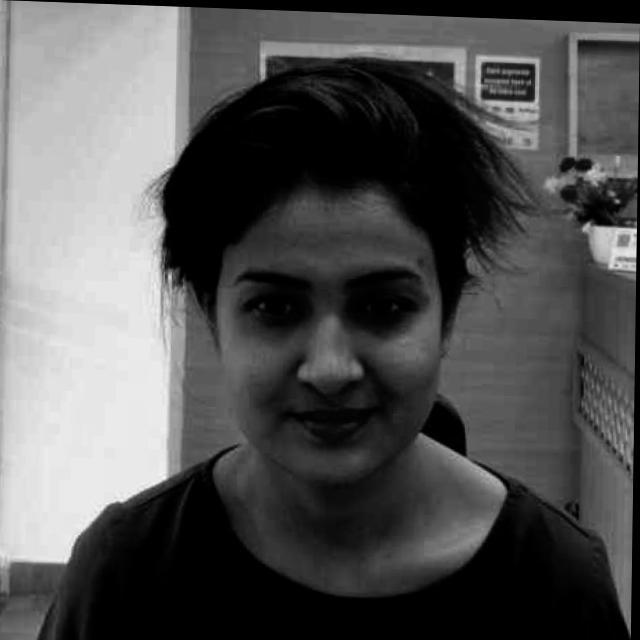Puffy Eyes - v3 Dark Circle: (251, 291, 313, 331), (348, 309, 406, 332)
